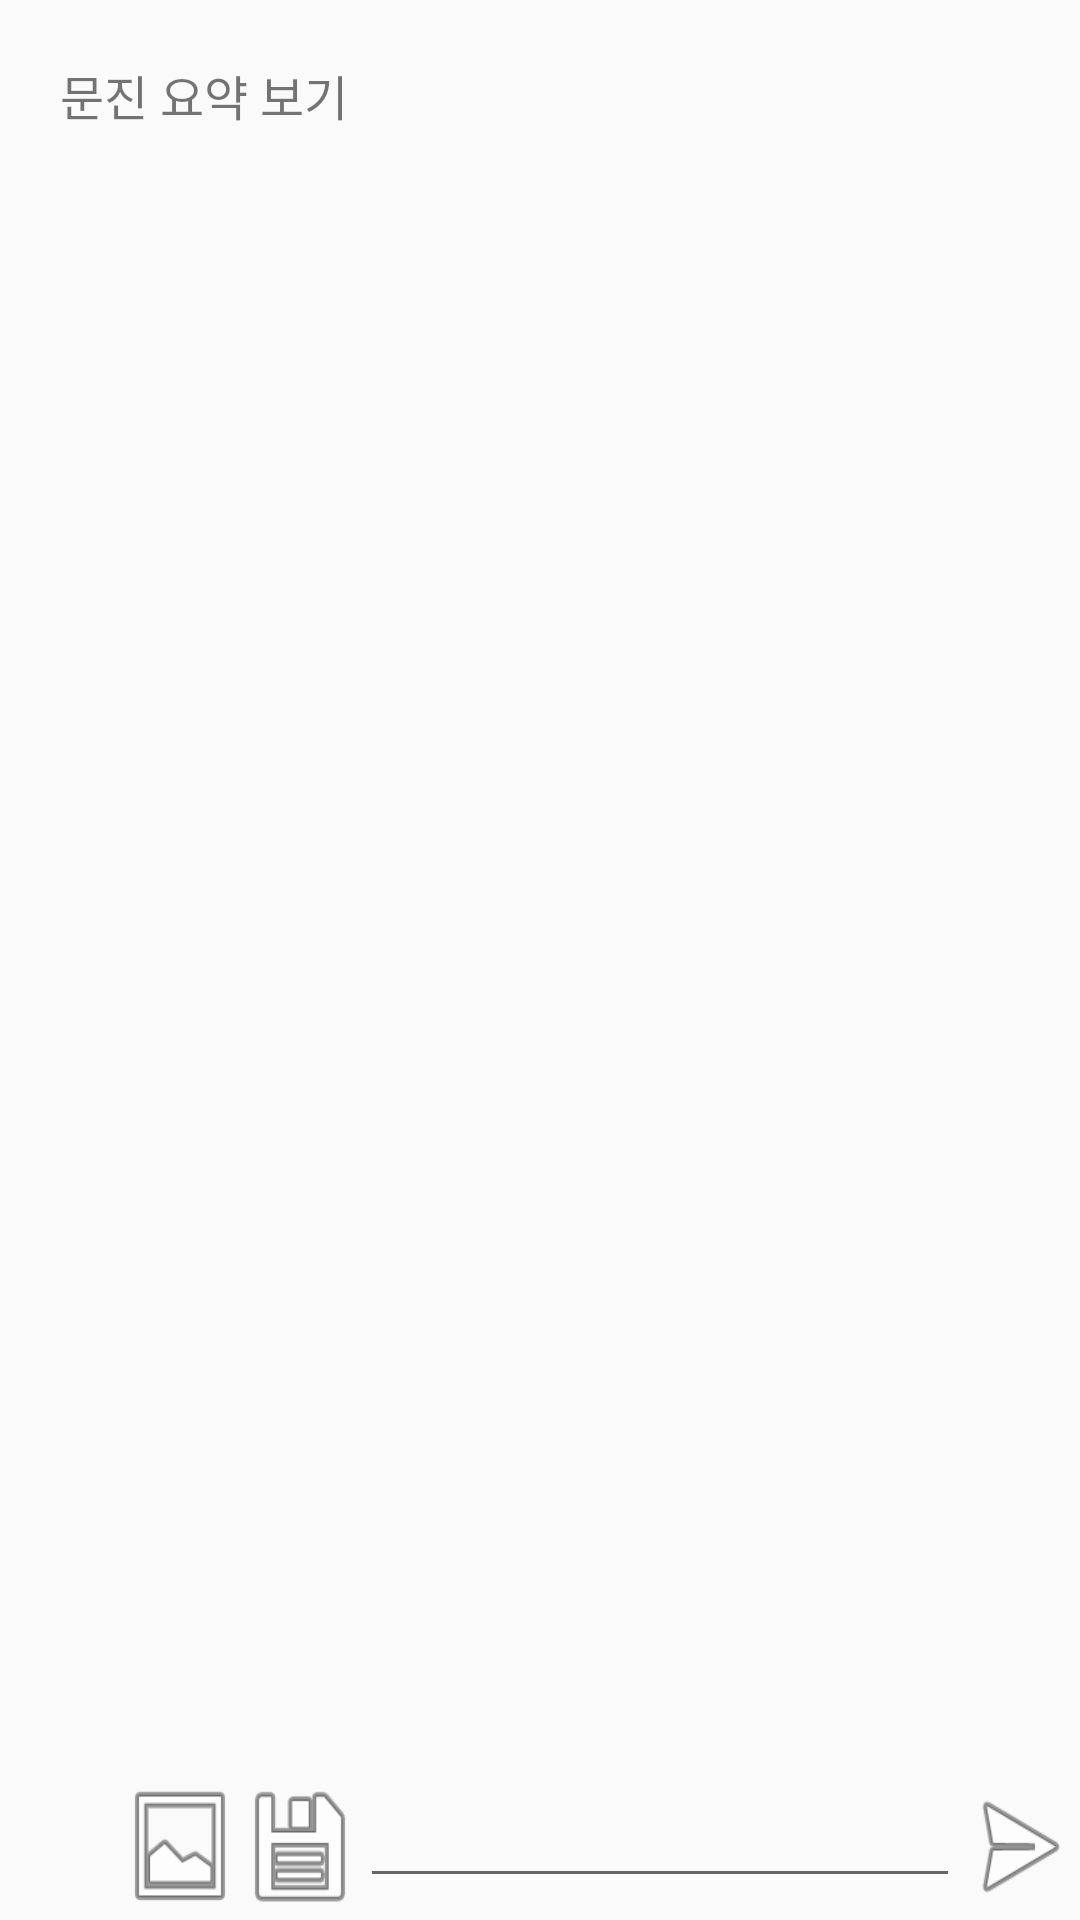

Screen size 1080*1920. Icon name, then its box in pixels as (x1, y1, x2, y2):
gallery: (135, 1792, 225, 1900)
save: (255, 1792, 345, 1902)
send: (982, 1801, 1060, 1892)
